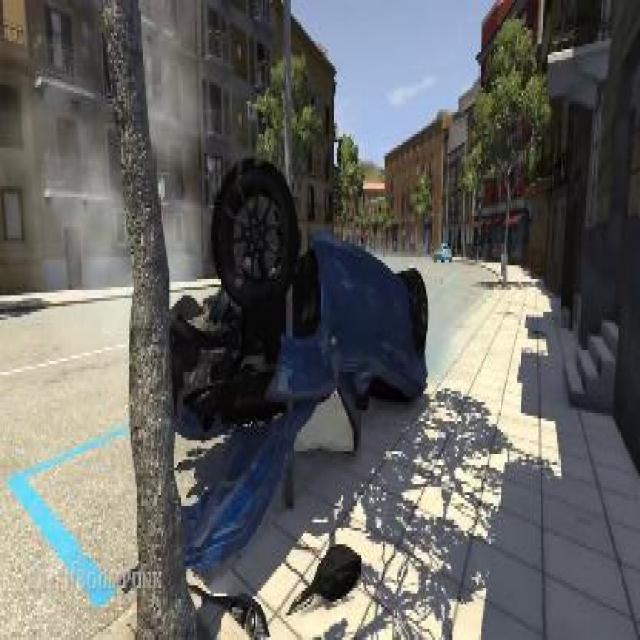accident: (165, 158, 429, 522)
